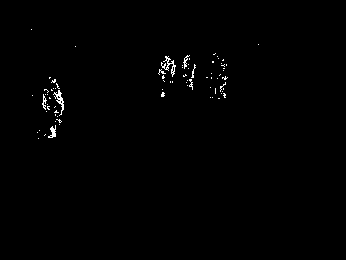person: (39, 74, 65, 140), (158, 53, 176, 98), (180, 51, 197, 93)
